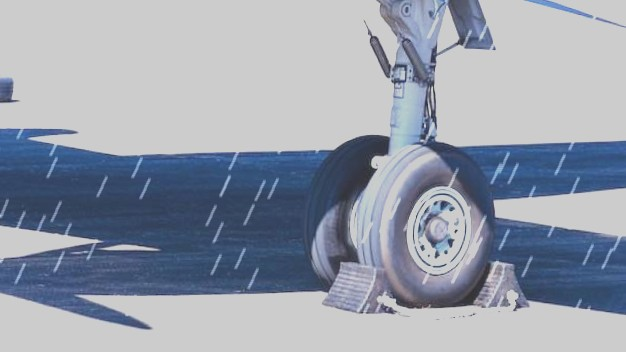chock: (320, 258, 399, 317), (457, 260, 534, 314)
wheel: (359, 144, 496, 308), (297, 132, 390, 290), (0, 73, 14, 102)
